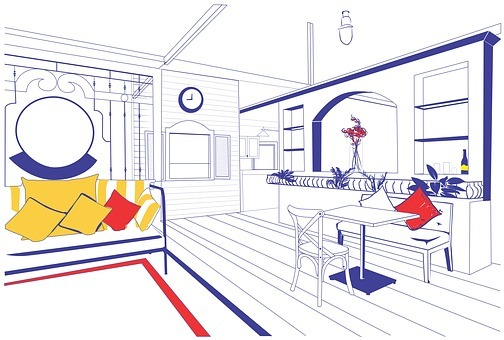bottle: (456, 149, 473, 178)
chair: (344, 187, 458, 285), (273, 198, 357, 304)
diningtable: (321, 197, 419, 298)
sofa: (2, 177, 178, 281)
